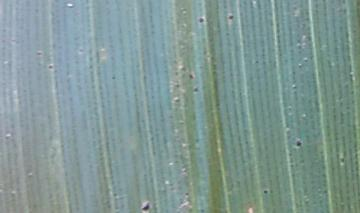tarspot: (140, 201, 151, 213), (185, 70, 195, 83), (293, 139, 303, 150), (225, 13, 236, 22), (338, 154, 346, 166), (196, 15, 205, 25), (34, 48, 43, 58), (261, 186, 269, 197), (109, 72, 117, 83), (46, 62, 55, 71), (193, 87, 200, 95)
